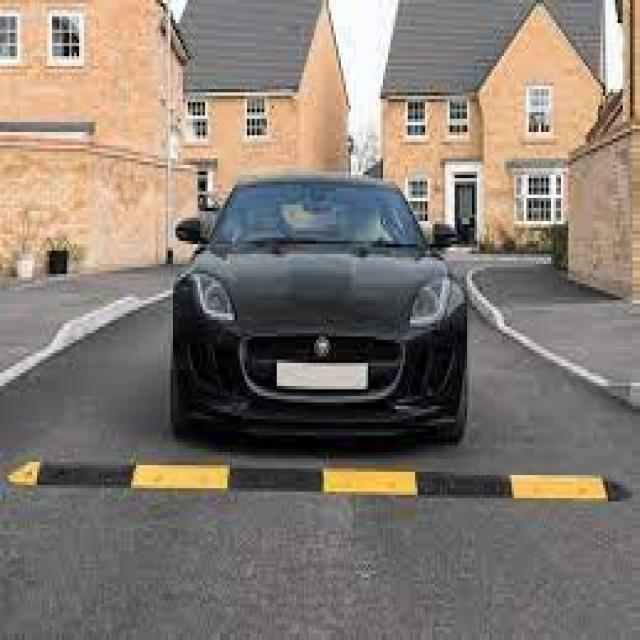Marked Bump: (34, 445, 628, 513)
